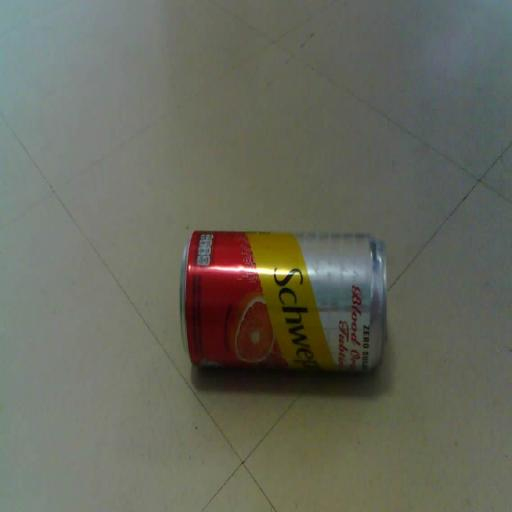canned: (172, 206, 390, 406)
